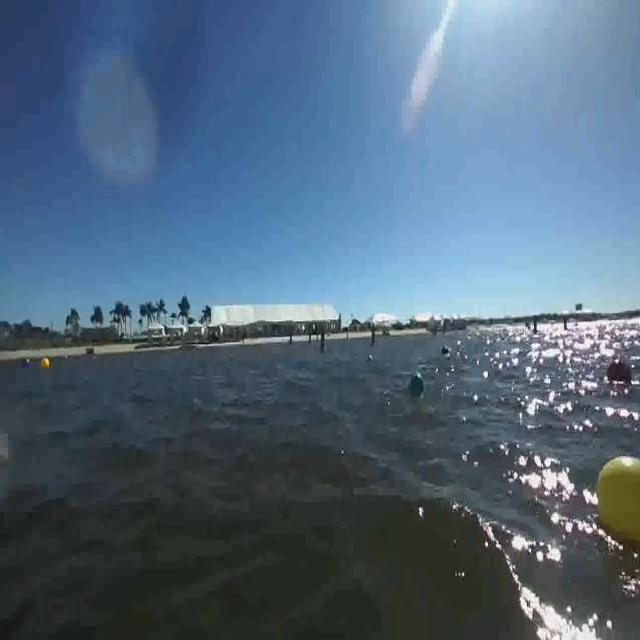yellow-buoy: (593, 452, 640, 552)
